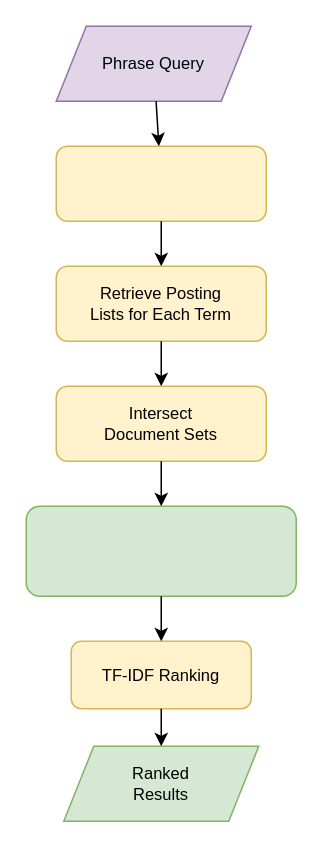
Some shapes in this 323 by 848 pixel diagram are drawn without their labels. The shapes that lost their labels are listed below. From the top down, each one's centre as x and y in pixels, then its label:
At [160,183]: "Preprocess Each Term (Stem)".
At [160,550]: "Check Position Consecutiveness (pos[i+1] = pos[i] + 1)".
